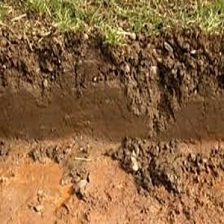clay_soil: (6, 18, 216, 210)
